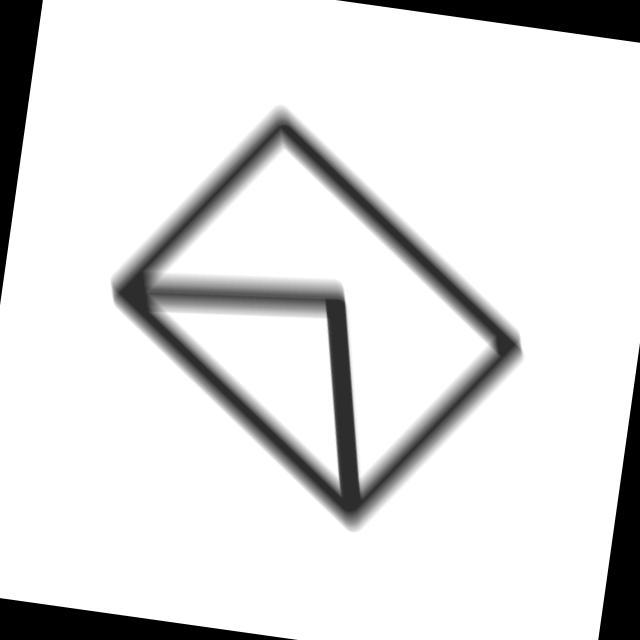letter: (72, 81, 561, 557)
